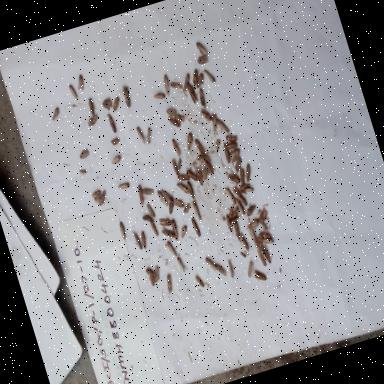pbw: (214, 112, 234, 139), (118, 80, 136, 110), (64, 74, 80, 104), (207, 110, 224, 138), (138, 260, 159, 282), (157, 70, 174, 97), (162, 236, 180, 261), (185, 78, 201, 106), (155, 187, 171, 214), (104, 110, 122, 134), (181, 129, 198, 154), (201, 65, 218, 90), (157, 211, 178, 231), (82, 110, 102, 131), (168, 134, 183, 162), (134, 122, 150, 148), (162, 270, 178, 296), (210, 256, 228, 279), (224, 144, 244, 164), (223, 182, 239, 207), (188, 213, 204, 238), (47, 103, 65, 125), (231, 153, 248, 176), (136, 226, 151, 252), (133, 181, 148, 207), (144, 198, 160, 222), (192, 134, 208, 158), (176, 67, 192, 91), (221, 210, 237, 234), (226, 198, 243, 220), (160, 222, 177, 244), (202, 253, 218, 276), (72, 70, 88, 93), (189, 196, 203, 222), (192, 160, 206, 186), (166, 74, 184, 94), (72, 144, 92, 162), (252, 230, 268, 252), (200, 155, 216, 177), (108, 90, 124, 112), (244, 223, 260, 245), (184, 162, 200, 184), (224, 256, 238, 281), (168, 216, 182, 241), (194, 86, 209, 109), (235, 165, 250, 188), (115, 177, 134, 195), (251, 264, 268, 284), (129, 228, 143, 252), (234, 192, 248, 216), (242, 162, 256, 186), (158, 181, 174, 202), (142, 124, 156, 148), (192, 67, 208, 88), (242, 258, 258, 279), (254, 244, 269, 266), (194, 52, 212, 70), (246, 215, 264, 233), (84, 95, 98, 118), (116, 219, 130, 242), (184, 178, 198, 201), (198, 103, 214, 123), (243, 198, 259, 218), (255, 204, 271, 224), (194, 38, 210, 58), (188, 66, 202, 88), (150, 86, 167, 104), (224, 168, 241, 186), (163, 102, 180, 120), (174, 179, 191, 197), (163, 194, 178, 214), (230, 217, 243, 240), (238, 231, 252, 252), (219, 138, 231, 162), (170, 194, 186, 212), (166, 112, 182, 130), (145, 266, 158, 288), (89, 185, 104, 204), (148, 218, 161, 239), (225, 128, 242, 144), (138, 207, 154, 224), (140, 182, 156, 199), (195, 148, 211, 164), (174, 254, 188, 272), (176, 222, 190, 240), (150, 264, 164, 282), (100, 94, 114, 112), (223, 202, 237, 220), (169, 156, 181, 176), (230, 183, 244, 200), (236, 190, 249, 208), (199, 166, 212, 184), (193, 270, 206, 288), (224, 138, 240, 152), (180, 200, 194, 216), (107, 134, 122, 148), (109, 153, 125, 166), (260, 225, 272, 242), (76, 164, 90, 178), (172, 110, 186, 124), (242, 182, 255, 195), (176, 170, 190, 182), (174, 156, 185, 171), (260, 236, 276, 246), (238, 248, 248, 262), (228, 214, 242, 224)
